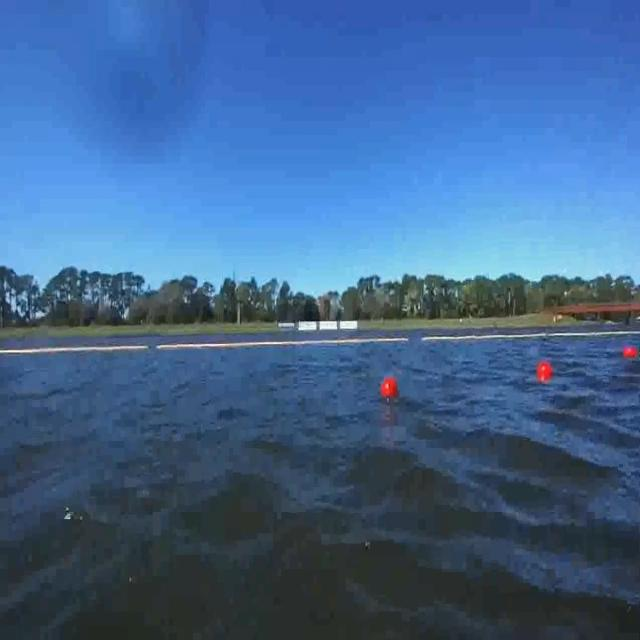red-buoy: (538, 360, 556, 382), (382, 378, 398, 398), (624, 347, 638, 359)
